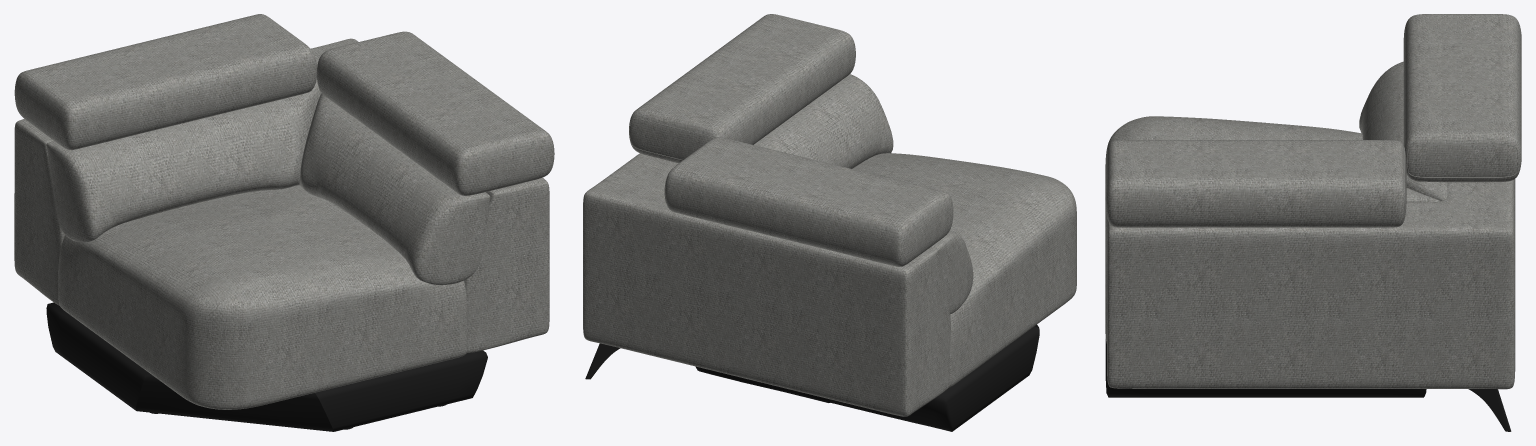
File: corner.glb
The picture shows the model from 3 angles, left to right: view 1: azimuth 30°, elevation 25°; view 2: azimuth 150°, elevation 25°; view 3: azimuth 270°, elevation 25°; orthographic projection. The views are drawn at different scales.
Visible parts, largest first — view 1: object 69, object 4, object 57, object 61, object 63, object 2, object 1; view 2: object 63, object 69, object 4, object 61, object 2, object 1, object 57, pé; view 3: object 63, object 61, object 4, object 69, object 57, object 1, pé, object 2.
Boxes of the visible parts, <box> form: object 69: <box>58,185,467,409</box>; object 4: <box>14,14,316,150</box>; object 57: <box>46,78,321,242</box>; object 61: <box>316,31,554,195</box>; object 63: <box>14,38,549,352</box>; object 2: <box>299,93,490,285</box>; object 1: <box>46,302,487,431</box>; object 63: <box>583,153,950,416</box>; object 69: <box>852,153,1076,387</box>; object 4: <box>665,137,953,266</box>; object 61: <box>629,14,855,163</box>; object 2: <box>754,74,893,168</box>; object 1: <box>695,324,1039,431</box>; object 57: <box>930,231,973,314</box>; pé: <box>585,343,620,379</box>; object 63: <box>1107,179,1515,389</box>; object 61: <box>1105,140,1406,227</box>; object 4: <box>1403,14,1521,182</box>; object 69: <box>1105,116,1362,343</box>; object 57: <box>1359,61,1447,200</box>; object 1: <box>1105,339,1426,397</box>; pé: <box>1468,389,1511,431</box>; object 2: <box>1105,188,1439,264</box>.
Size of the model in its own units: 1.09 by 0.7498 by 1.08.
Materials: 4 (2 with a texture image).
